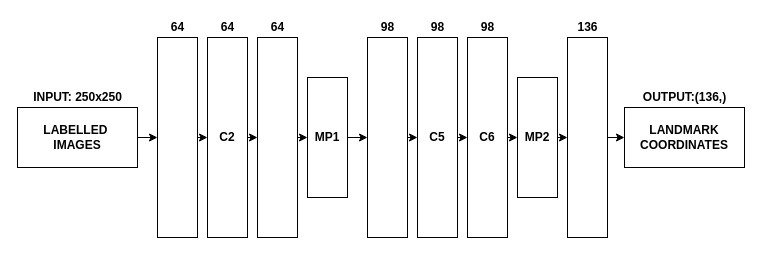
Some shapes in this 762 by 255 pixel diagram are drawn without their labels. Each missing label, with the centre of its shape:
C1: (177,137)
C3: (277,137)
C4: (387,137)
D1: (587,137)
